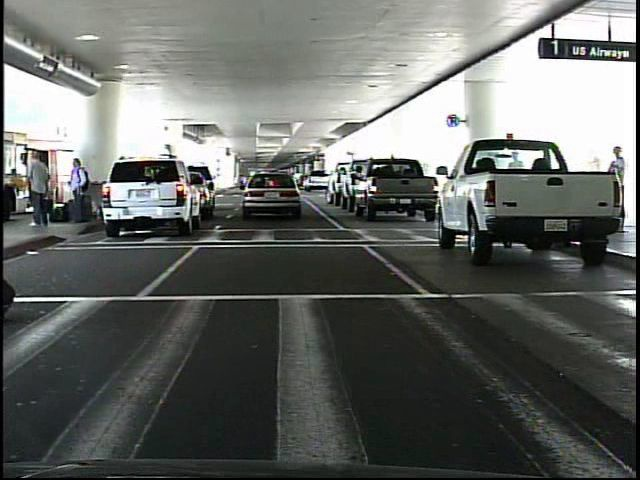person: (599, 142, 629, 231), (24, 150, 52, 227), (65, 156, 89, 225)
